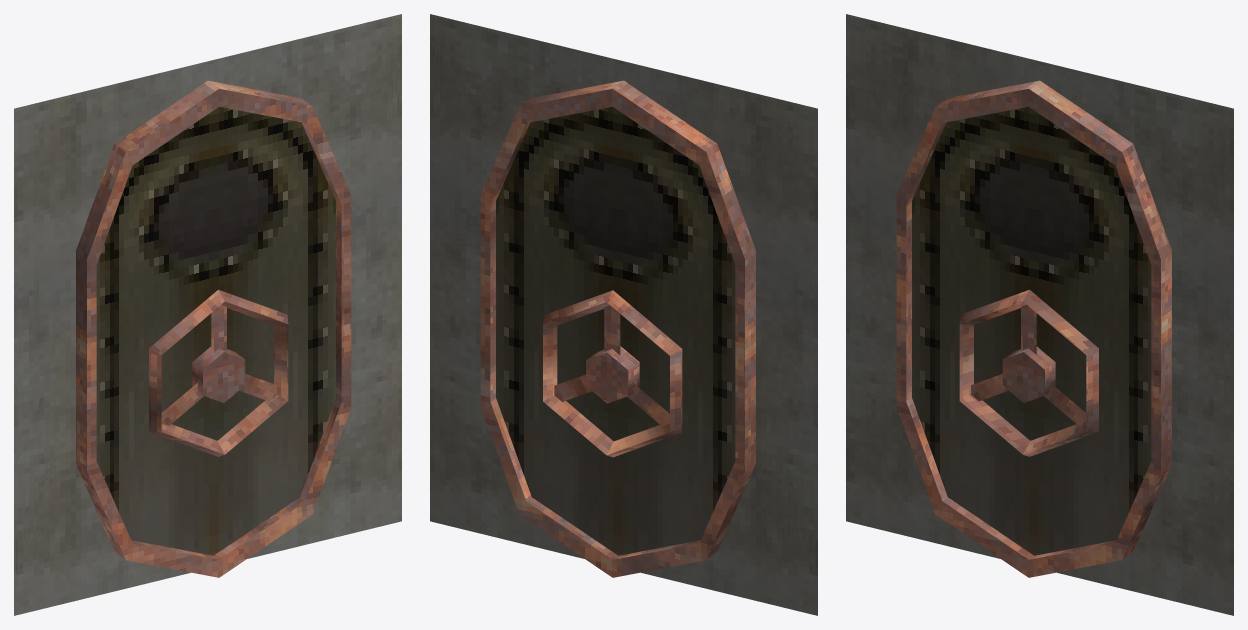
Rendered from sub_door.glb.
The picture shows the model from 3 angles, left to right: view 1: azimuth 30°, elevation 25°; view 2: azimuth 150°, elevation 25°; view 3: azimuth 330°, elevation 25°; orthographic projection.
Parts seen in each view (by area): view 1: sub_door; view 2: sub_door; view 3: sub_door.
Boxes of the visible parts, x1,y1,x2,y2 form: sub_door: [14, 14, 401, 615]; sub_door: [430, 14, 817, 615]; sub_door: [846, 14, 1233, 615].
Bounding box in the file's own units: 2 × 2.51 × 0.3099.
3 materials, 3 textured.
